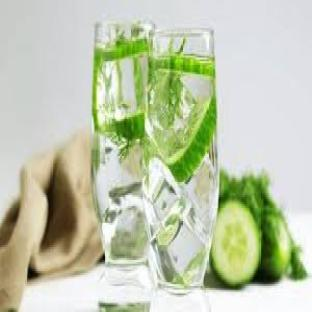Cucumber: (212, 201, 261, 287), (259, 212, 292, 280)
